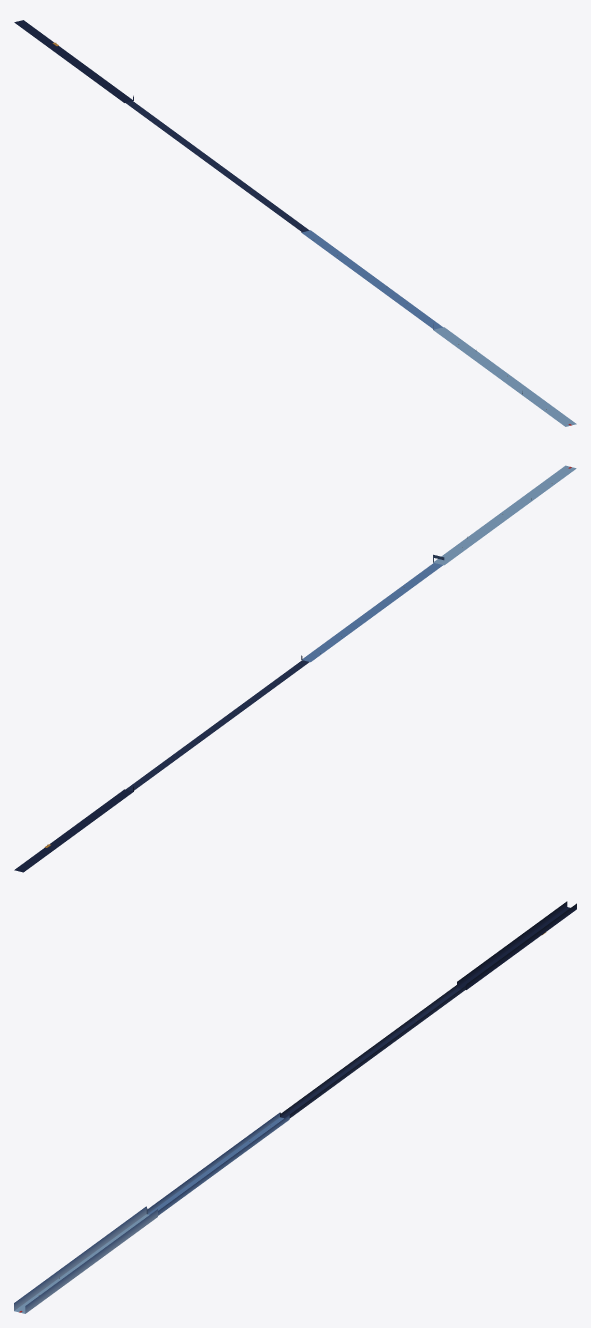
Rendered from ice_moon.glb.
The picture shows the model from 3 angles, top to bottom: view 1: azimuth 30°, elevation 25°; view 2: azimuth 150°, elevation 25°; view 3: azimuth 330°, elevation 25°; orthographic projection.
Parts seen in each view (by area): view 1: z0_fl, z2_fl, z1_fl, z3_fl; view 2: z0_fl, z2_fl, z1_fl, z3_fl; view 3: z0_wR, z0_wL, z2_wL, z2_wR, z1_wL, z1_wR, z3_wR, z3_wL, z2_fl, z1_fl, z0_fl.
Part boxes in pixels (x1,y1,x2,y2): z0_fl: [433, 327, 576, 426]; z2_fl: [126, 101, 309, 232]; z1_fl: [302, 230, 442, 329]; z3_fl: [14, 20, 132, 102]; z0_fl: [434, 465, 576, 565]; z2_fl: [126, 660, 309, 791]; z1_fl: [302, 563, 442, 662]; z3_fl: [14, 789, 133, 872]; z0_wR: [25, 1209, 157, 1313]; z0_wL: [14, 1206, 146, 1310]; z2_wL: [281, 984, 457, 1117]; z2_wR: [289, 986, 465, 1118]; z1_wL: [147, 1112, 279, 1213]; z1_wR: [158, 1115, 289, 1215]; z3_wR: [466, 903, 576, 989]; z3_wL: [457, 901, 567, 986]; z2_fl: [281, 988, 460, 1118]; z1_fl: [148, 1117, 283, 1214]; z0_fl: [14, 1214, 149, 1313].
Bounding box in the file's own units: 300 × 200 × 5000.
